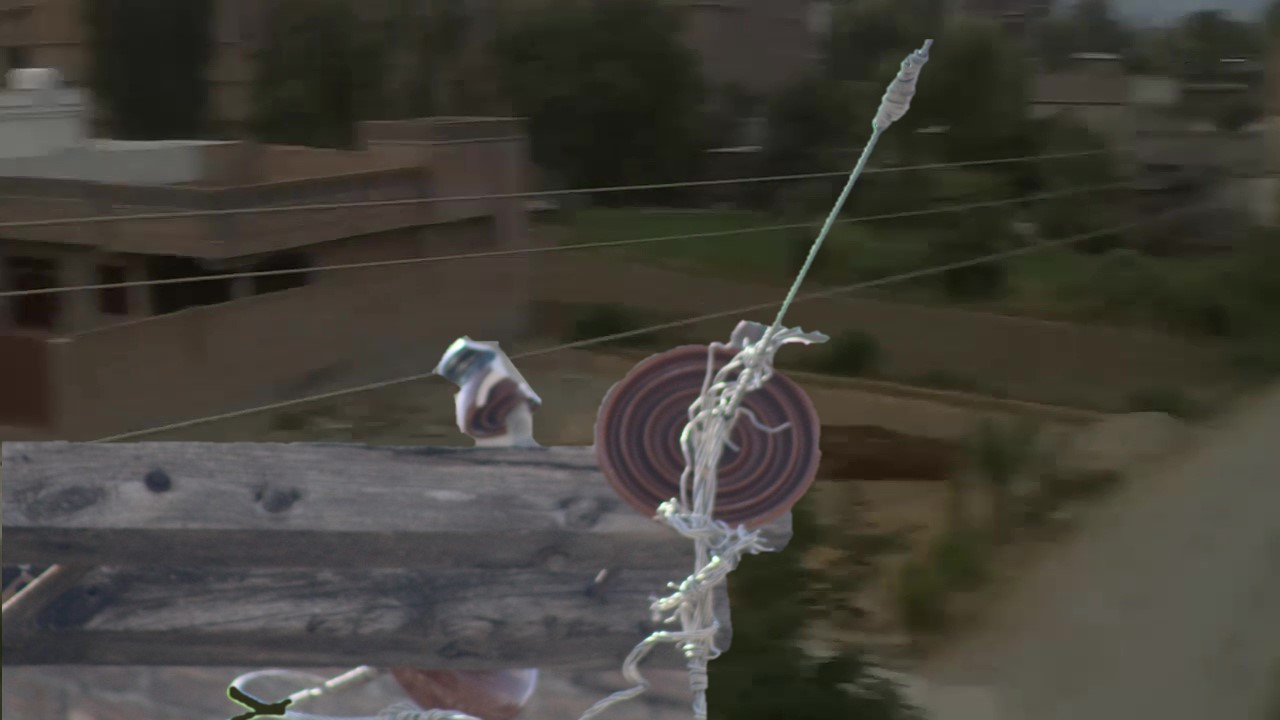defect_pin: (430, 326, 542, 446)
insulator_disc: (589, 333, 829, 545)
